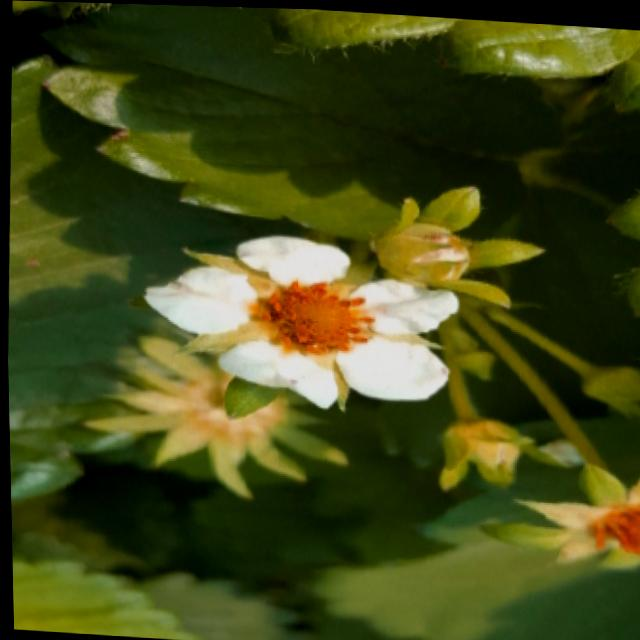Blossom Blight: (247, 272, 379, 360)
